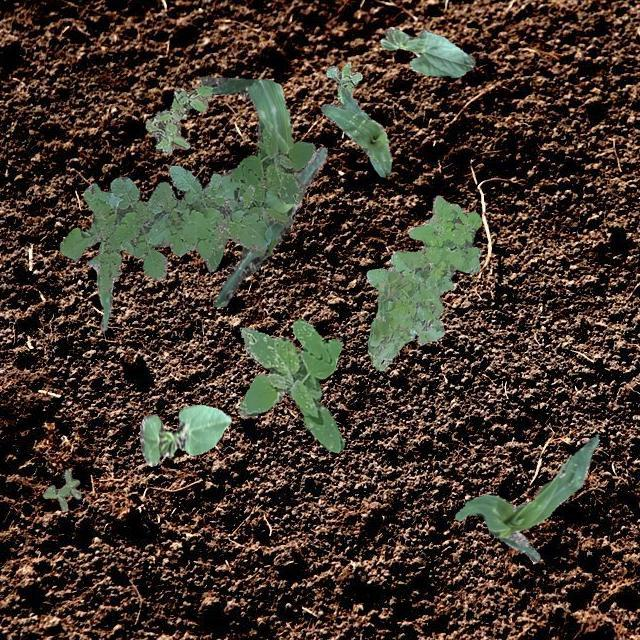crop: (198, 76, 326, 306), (454, 432, 598, 560), (320, 86, 390, 176), (138, 404, 230, 466), (380, 26, 474, 76), (85, 240, 112, 330)
weed: (58, 164, 270, 290), (366, 194, 480, 370), (202, 128, 314, 270), (236, 318, 342, 452), (144, 84, 216, 152), (324, 60, 362, 104), (42, 468, 80, 511)
